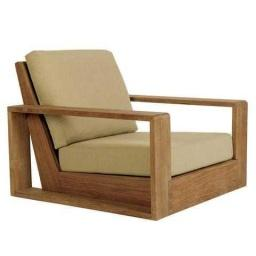Chair: (7, 52, 248, 219)
